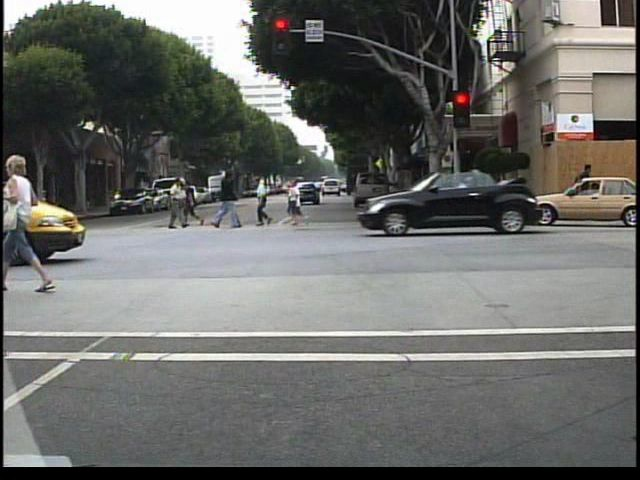person: (12, 148, 69, 294), (10, 192, 47, 240), (161, 174, 189, 232), (216, 169, 240, 233), (219, 168, 244, 229), (252, 175, 279, 229), (573, 159, 596, 218), (180, 179, 204, 231), (17, 182, 39, 236)
